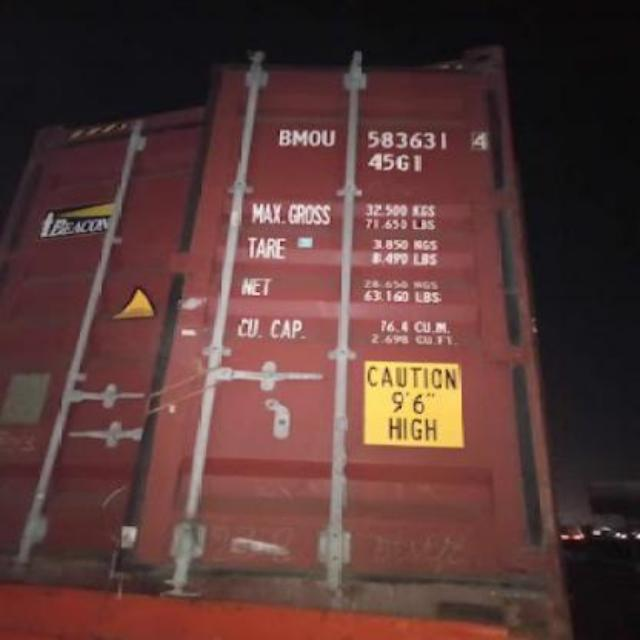1: (438, 124, 448, 152)
3: (422, 127, 436, 151), (394, 128, 408, 148)
4: (468, 124, 489, 152)
5: (368, 126, 378, 150)
6: (410, 127, 422, 151)
8: (382, 125, 394, 149)
B: (278, 125, 290, 146)
M: (292, 126, 310, 150)
O: (308, 122, 322, 148)
U: (322, 125, 338, 148)
